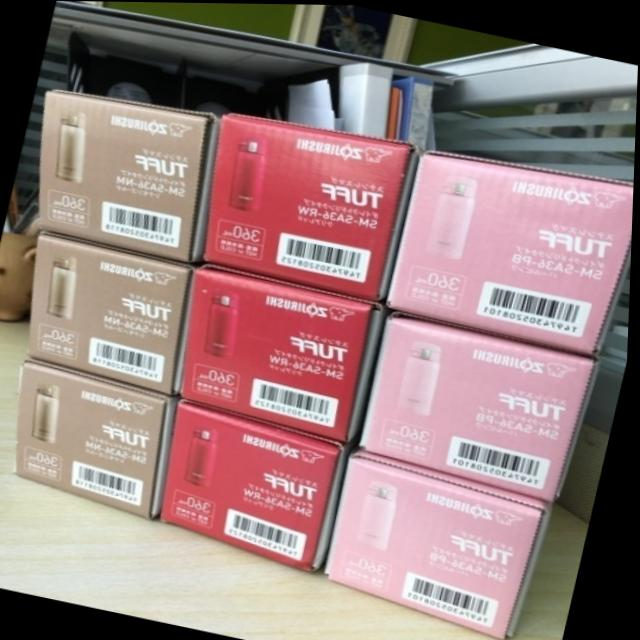box: (387, 146, 635, 356), (360, 308, 603, 501), (327, 449, 558, 638), (204, 113, 424, 301), (181, 265, 387, 443), (161, 399, 355, 573), (39, 88, 221, 263), (30, 231, 196, 397), (18, 358, 181, 520)
